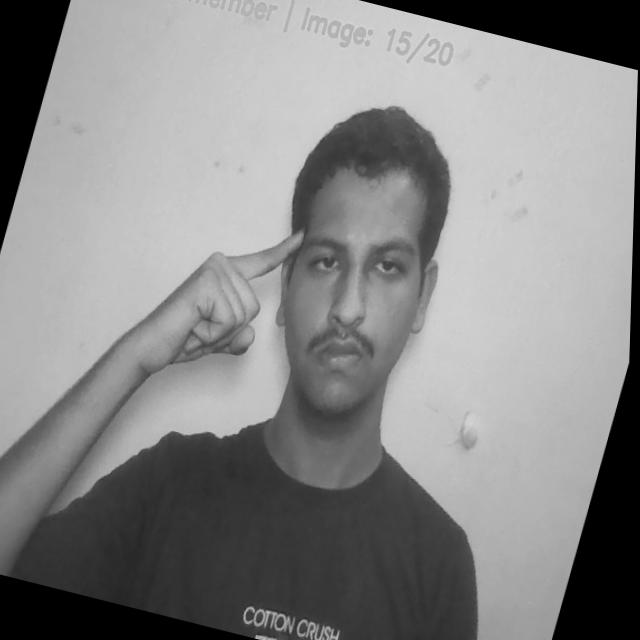Remember: (119, 195, 309, 405)
